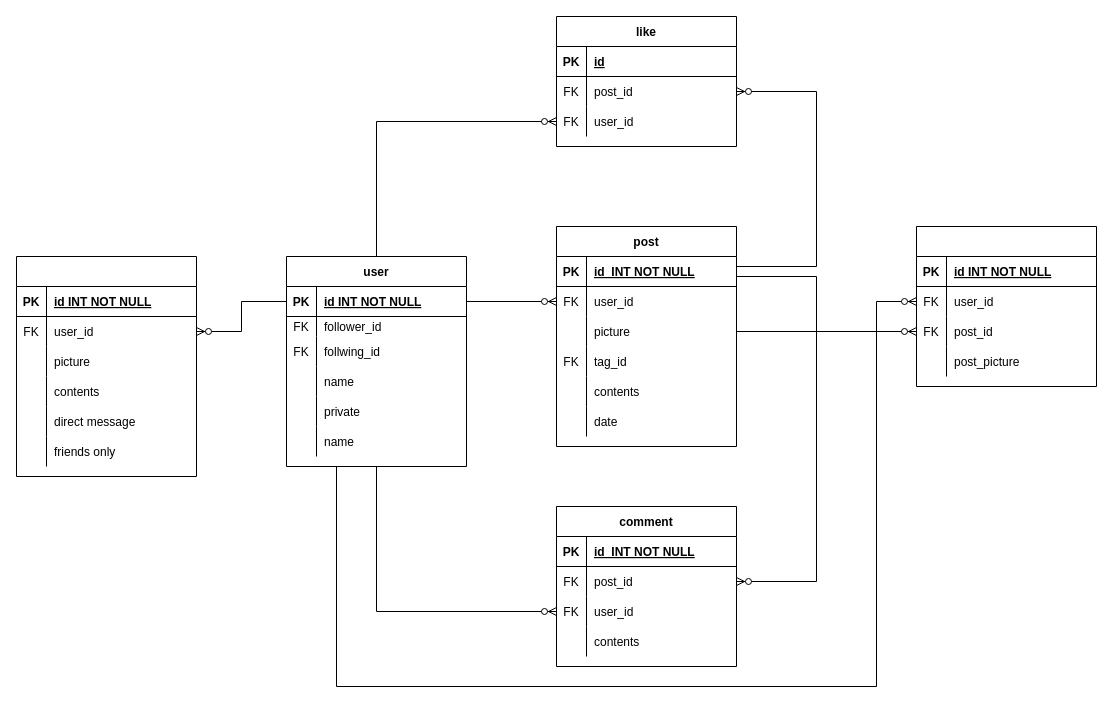
This 1113x703 diagram has some shape labels left out. Here are the shapes that lost their labels. From the top down, the box of each, then its label:
(916, 226, 1096, 386): feed
(16, 256, 196, 476): story
